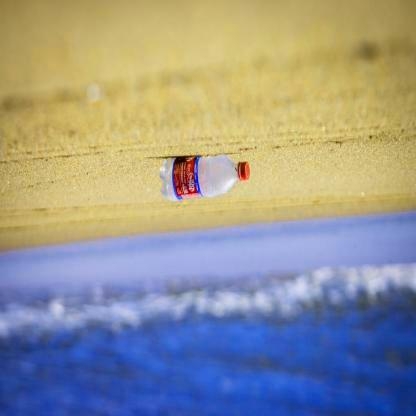Plastic: (157, 149, 253, 204)
